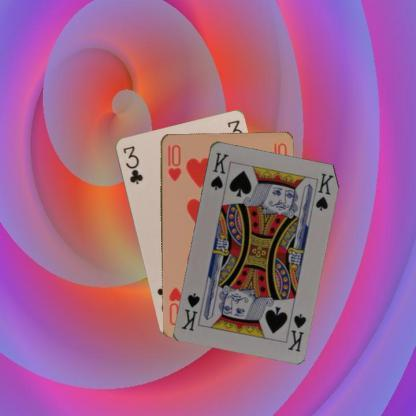10h: (165, 142, 182, 182)
3c: (120, 144, 144, 186)
Ks: (284, 310, 308, 352), (207, 149, 230, 191)
